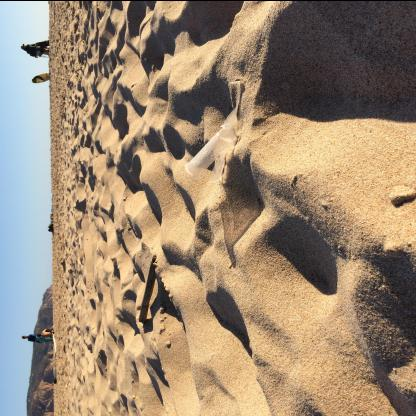plastik: (184, 127, 238, 182)
